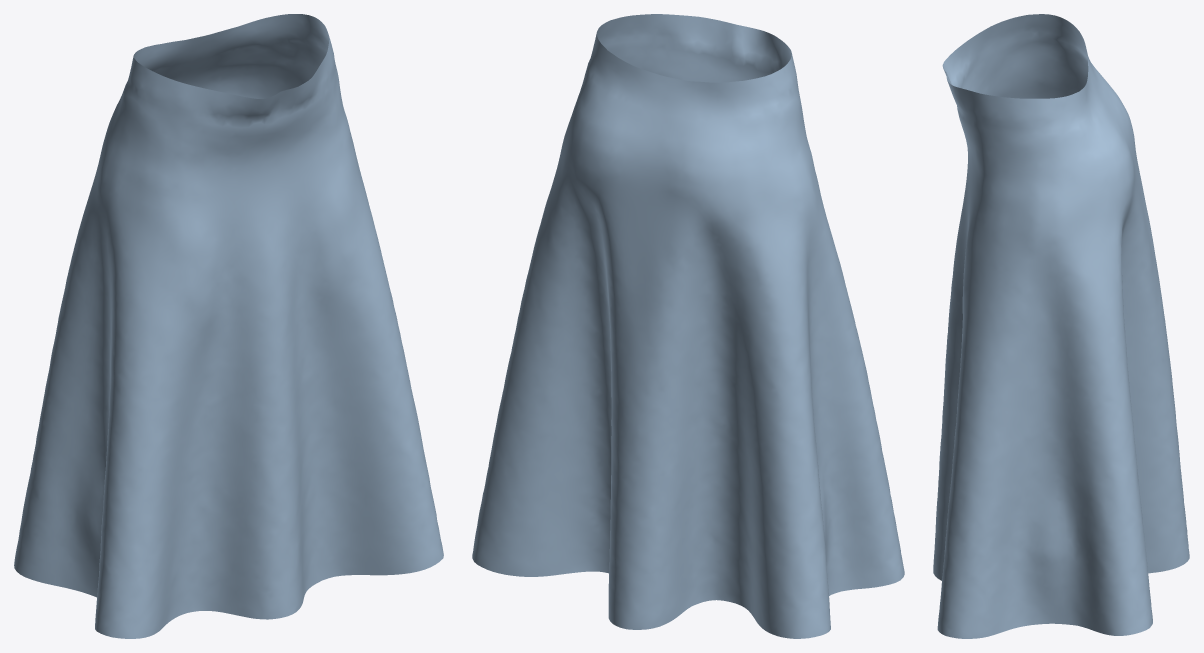
The model's file is skirt_M.glb.
3 views of the same model, side by side, from view 1: azimuth 30°, elevation 25°; view 2: azimuth 150°, elevation 25°; view 3: azimuth 270°, elevation 25° (orthographic). The views are drawn at different scales.
Parts seen in each view (by area): view 1: geometry_0; view 2: geometry_0; view 3: geometry_0.
Boxes of the visible parts, left/top/right/bottom form: geometry_0: left=14, top=14, right=443, bottom=638; geometry_0: left=472, top=14, right=904, bottom=638; geometry_0: left=933, top=14, right=1189, bottom=638.
Size of the model in its own units: 0.5666 by 0.8341 by 0.3755.
